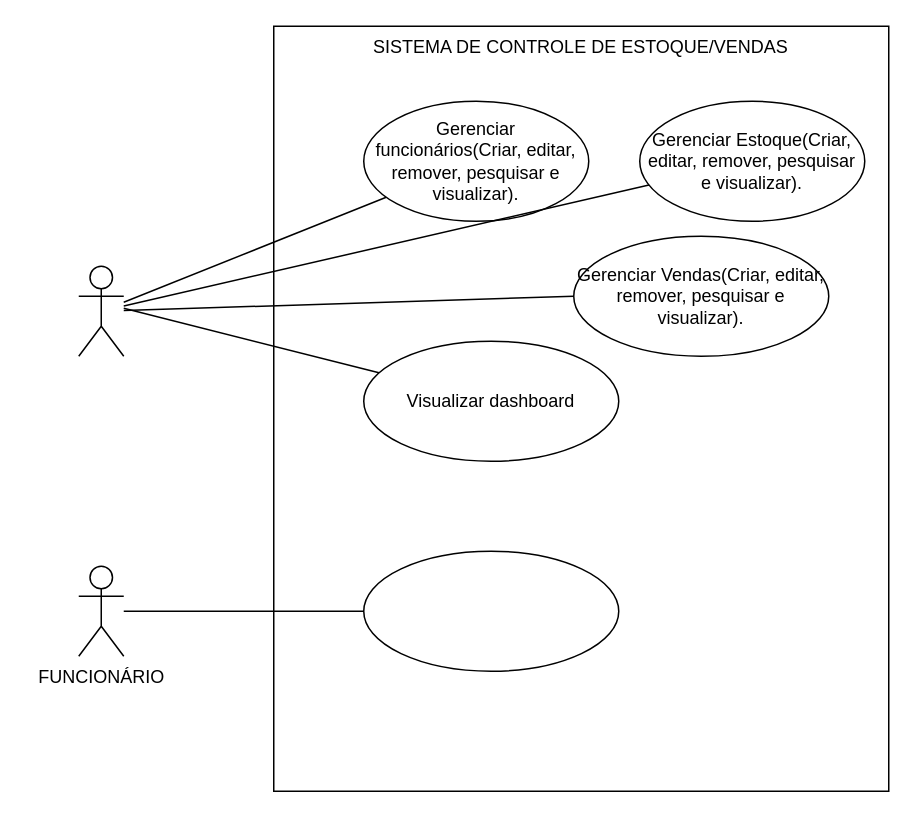
The diagram is 915 pixels wide and 818 high, and some of its shapes have lost their labels. Each missing label, with the box of its shape:
ADMINISTRADOR: (77, 265, 124, 356)
Criar vendas: (362, 550, 619, 671)
